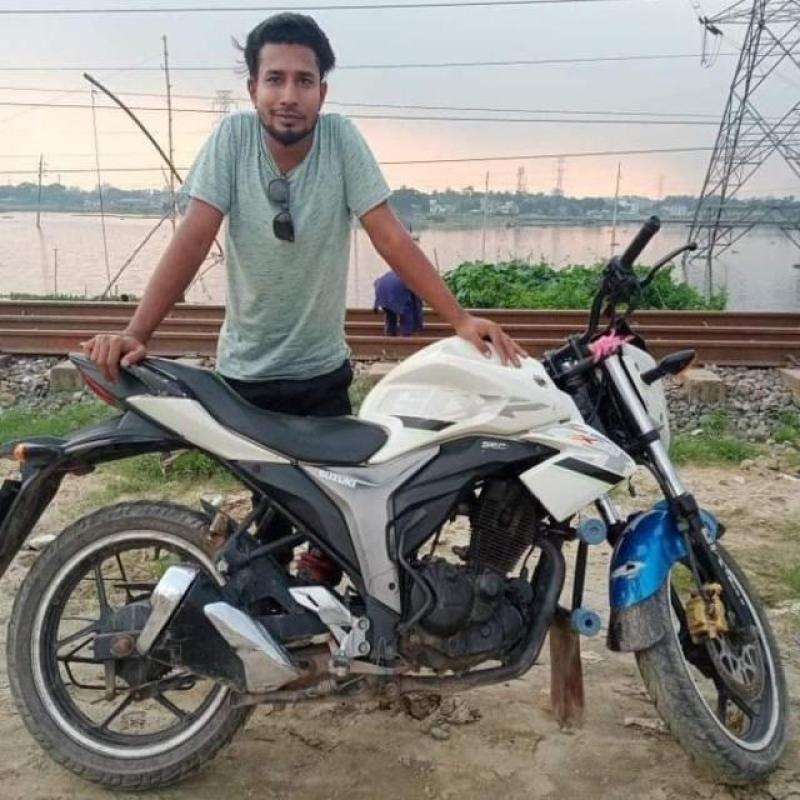nohelmet: (232, 15, 340, 156)
